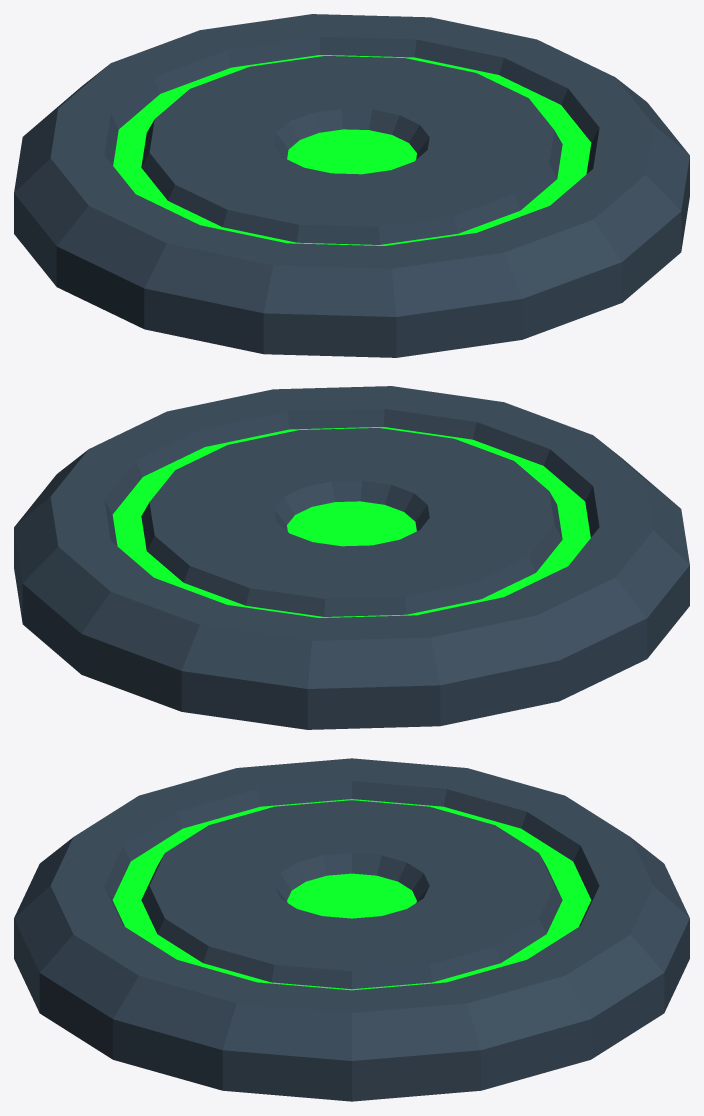
File: Button.fbx
3 views of the same model, one above another, from view 1: azimuth 30°, elevation 25°; view 2: azimuth 150°, elevation 25°; view 3: azimuth 270°, elevation 25° (orthographic).
Parts seen in each view (by area): view 1: 柱体.008; view 2: 柱体.008; view 3: 柱体.008.
Part boxes in pixels (<box>): 柱体.008: <box>14,14,689,357</box>; 柱体.008: <box>14,386,689,729</box>; 柱体.008: <box>14,758,689,1101</box>.
Size of the model in its own units: 200 by 200 by 23.84.
